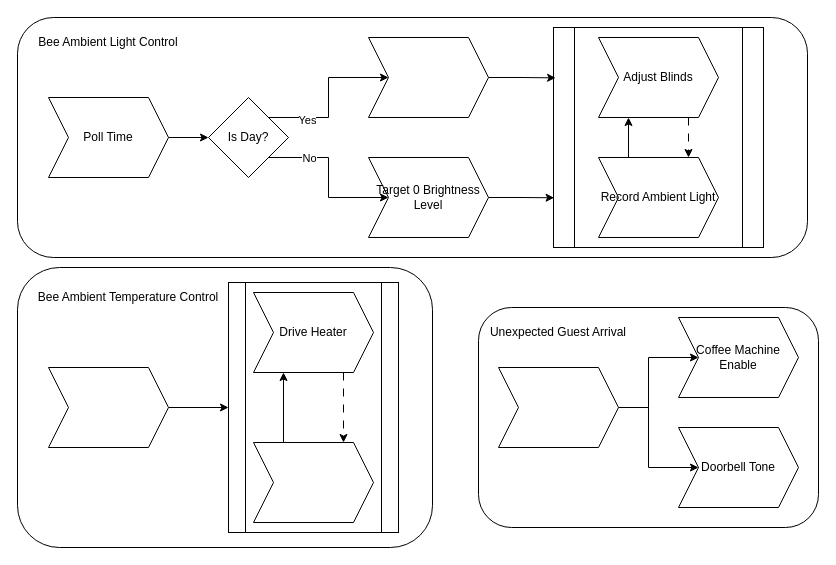
Some shapes in this 836 by 565 pixel diagram are drawn without their labels. Each missing label, with the centre of its shape:
"Doorbell Button Pressed" belongs at [558,407].
"Record Ambient Temperature" belongs at [313,482].
"Target 80% Brightness Level" belongs at [428,77].
"Target Consistent 33-35 Degree Setpoint" belongs at [108,407].
